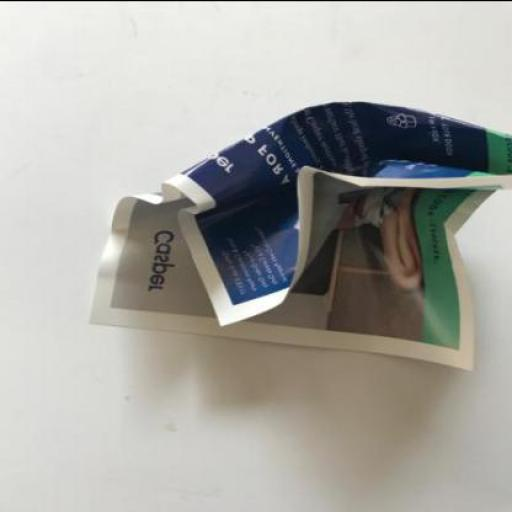paper: (87, 99, 511, 370)
